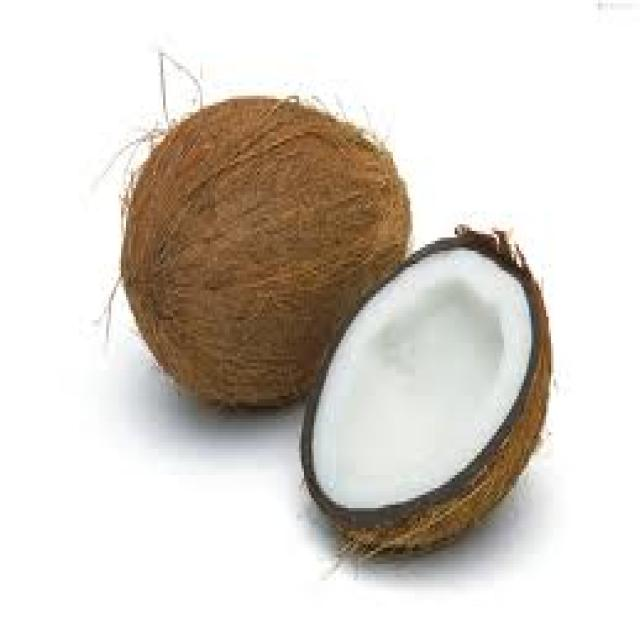coconut: (89, 53, 551, 574)
